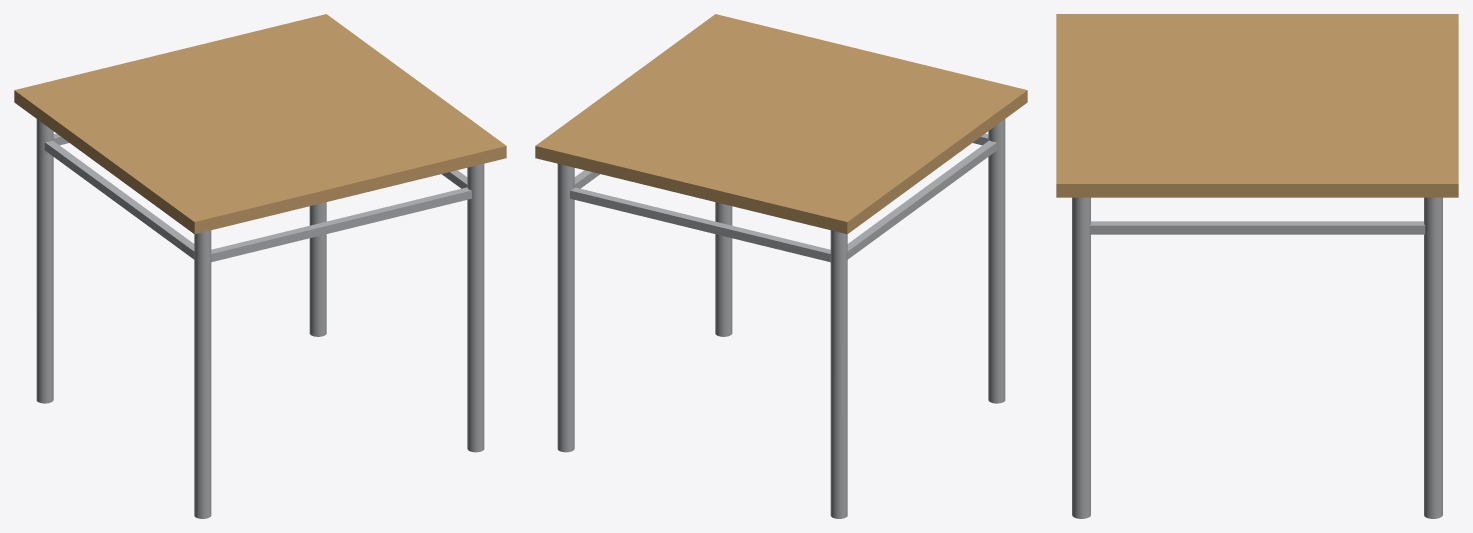
Rendered from mesa-patas.glb.
3 views of the same model, side by side, from view 1: azimuth 30°, elevation 25°; view 2: azimuth 150°, elevation 25°; view 3: azimuth 270°, elevation 25° (orthographic). The views are drawn at different scales.
Parts seen in each view (by area): view 1: mesa-patas; view 2: mesa-patas; view 3: mesa-patas.
Boxes of the visible parts, x1,y1,x2,y2 form: mesa-patas: (14, 14, 506, 518); mesa-patas: (535, 14, 1027, 518); mesa-patas: (1056, 14, 1458, 518).
Bounding box in the file's own units: 0.8 × 0.75 × 0.8.
